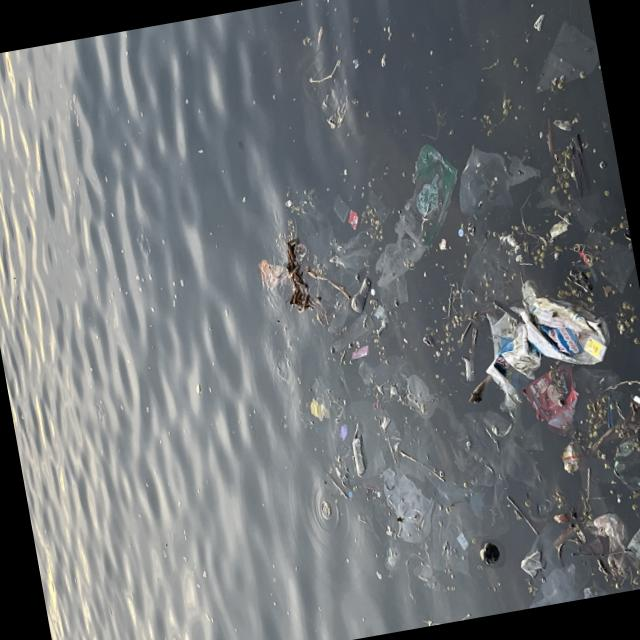plastic bag: (482, 285, 611, 379)
